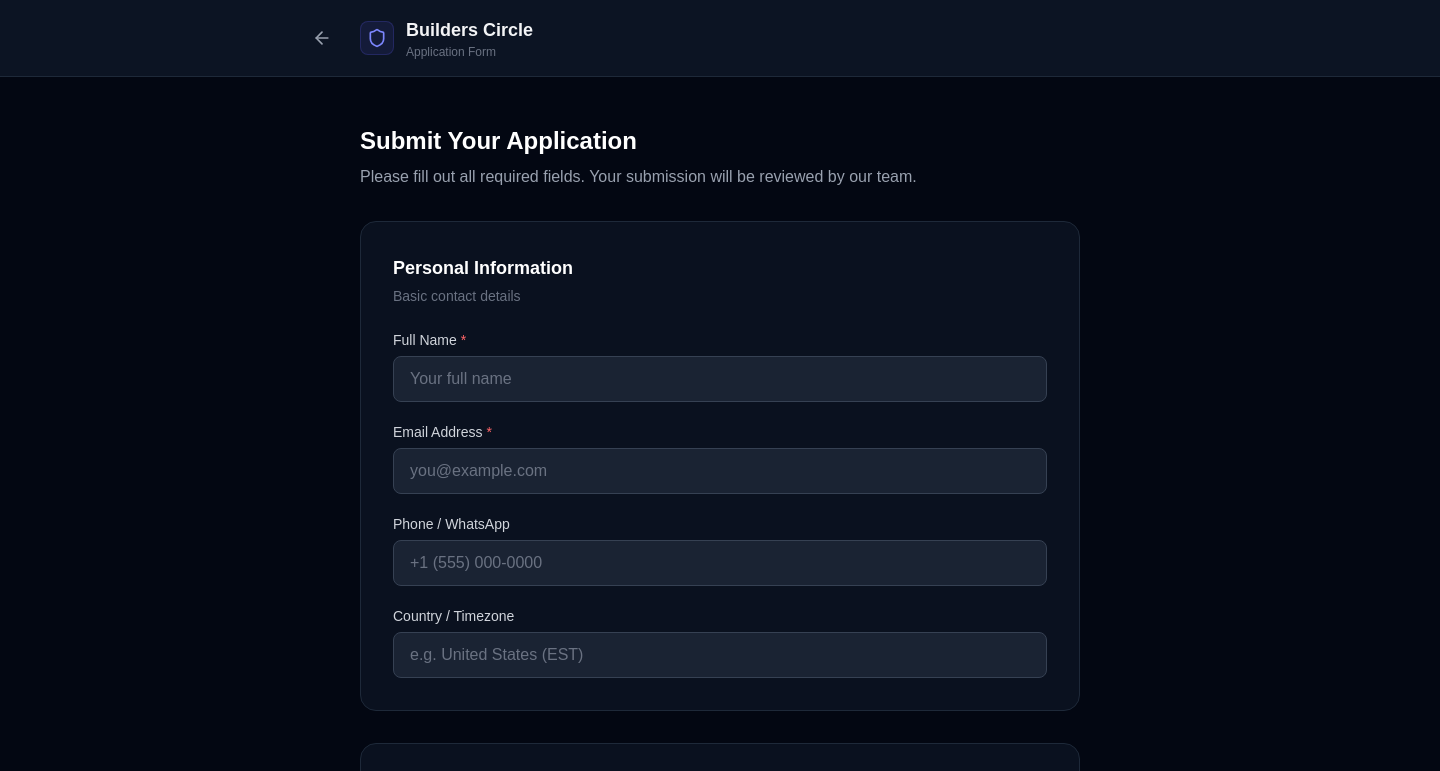
Test case: TriageApply Successful Submission [Group 5] › submits form data and shows success state
This screenshot has width=1440, height=771.
Type "Alice Smith" into the field with placeholder "Your full name". click: x=720, y=379
box: [393,356,1047,402]
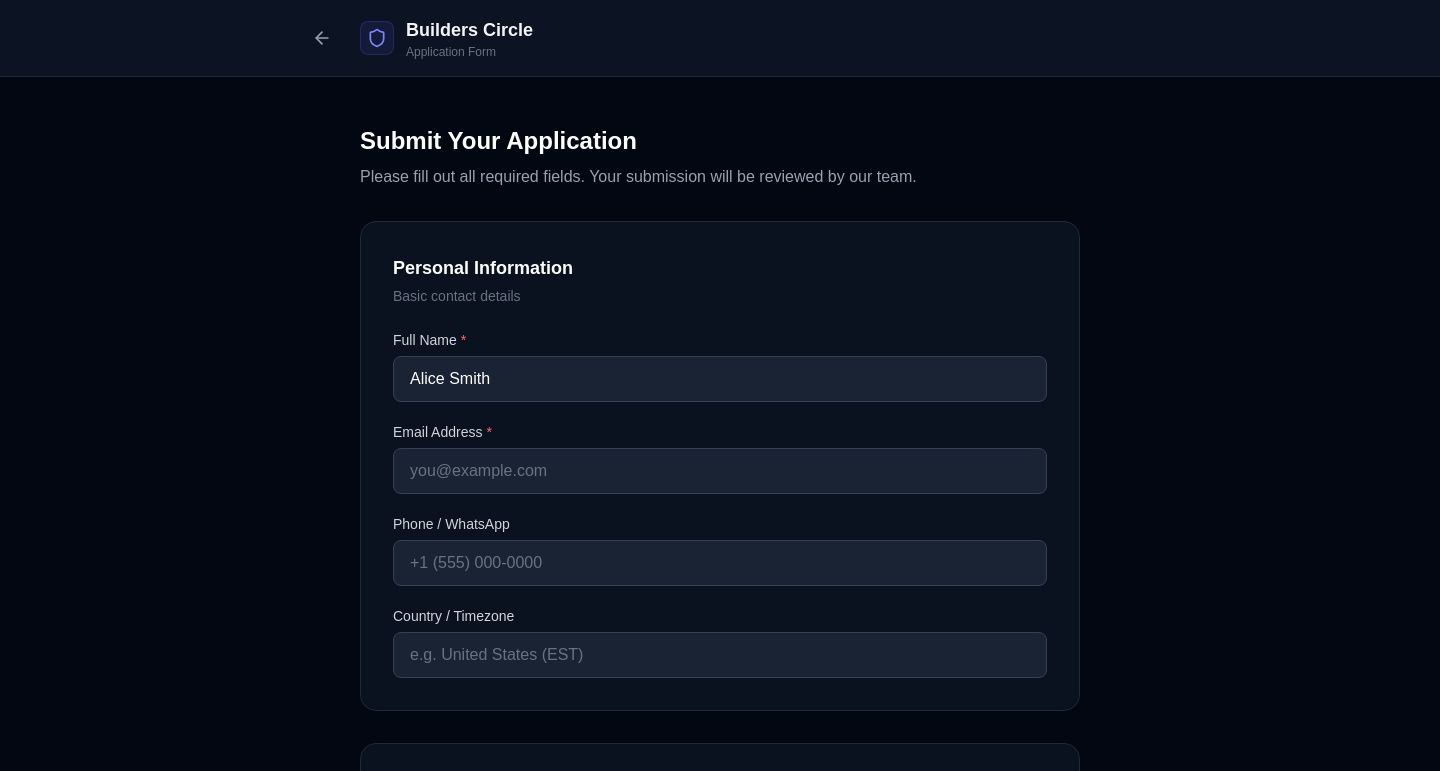
Type "alice@example.com" into the field with placeholder "you@example.com". click: x=720, y=471
box: [393,448,1047,494]
(page scrolled)
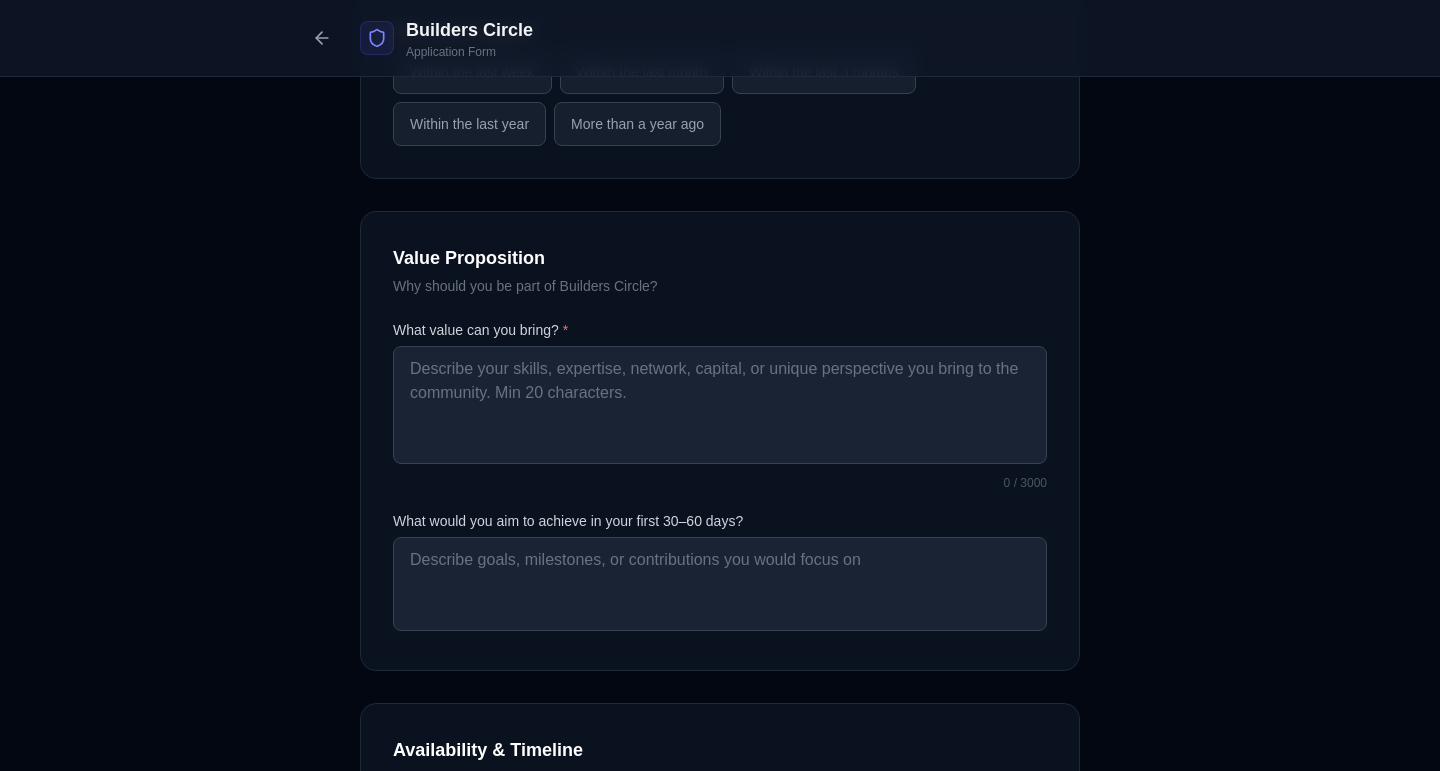
Replace the text in the text box with placeholder "Describe your skills" with "I am a full-stack developer with 10 years of experience building scalable web applications and distributed systems.". click: x=720, y=405
box: [393,346,1047,464]
(page scrolled)
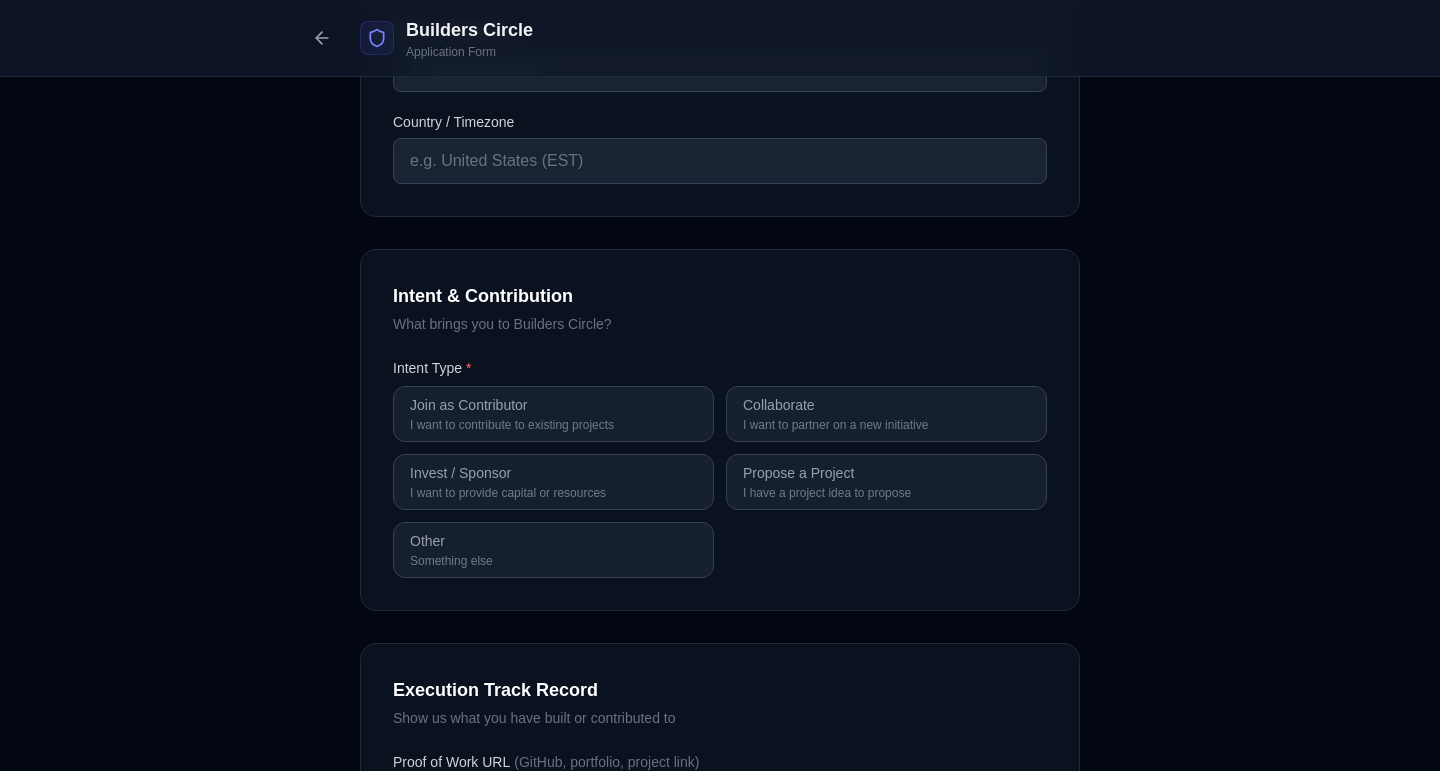
# Select intent type
Click the text "Join as Contributor". click: x=469, y=405
box: [410,397,528,413]
(page scrolled)
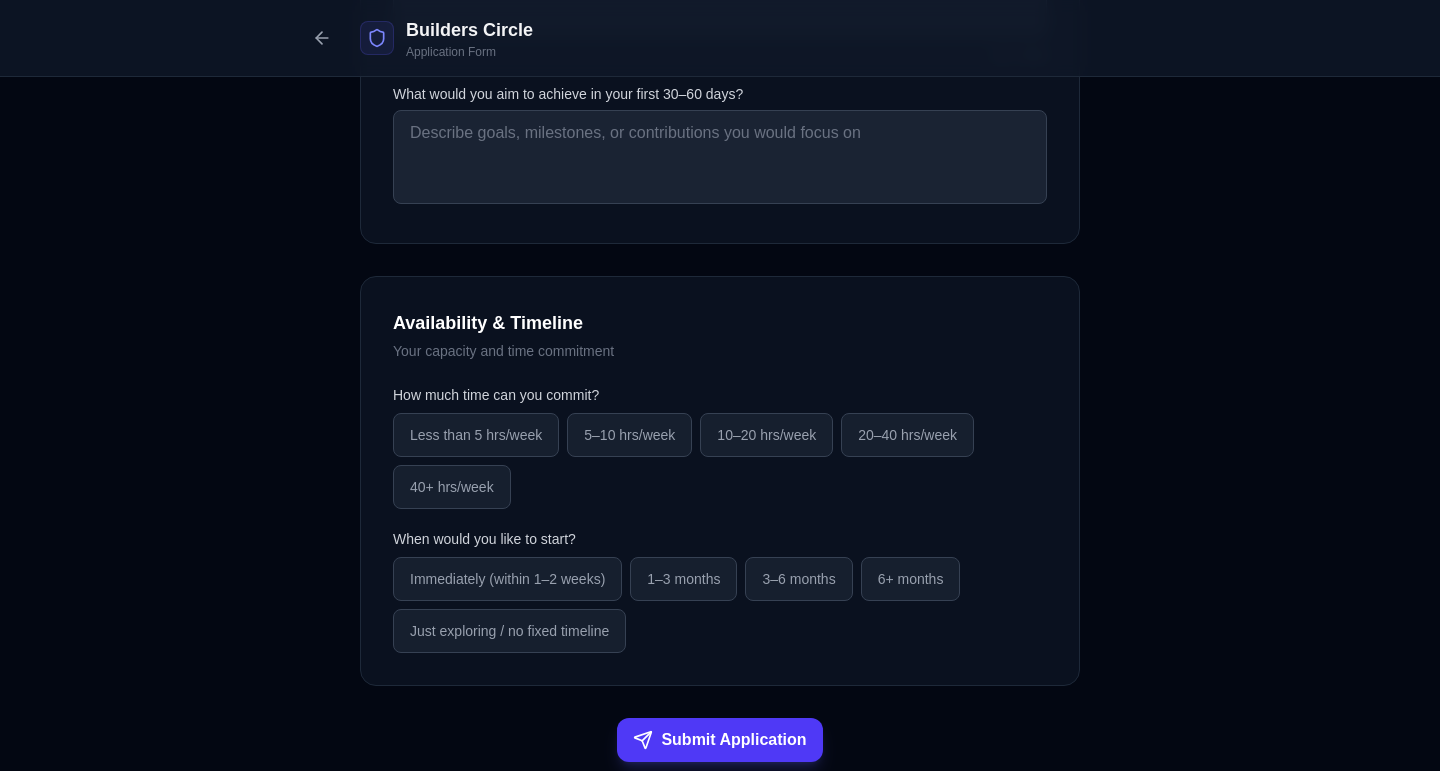
Click the button "Submit Application". click: x=720, y=740
box: [617,718,823,762]
(page scrolled)
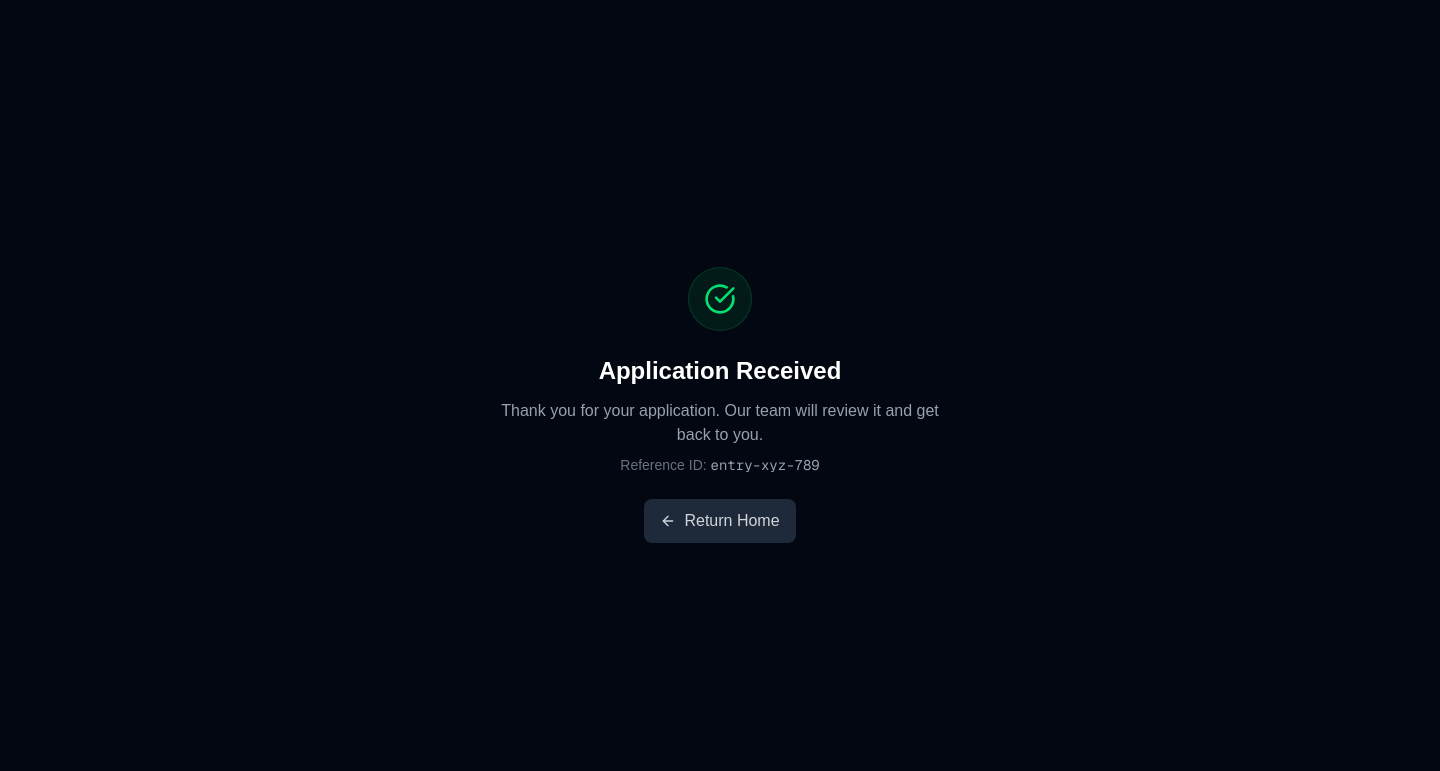
Now the heading "Application Received" is shown, box [599,357,841,384]
Now the text "entry-xyz-789" is shown, box [710,456,820,474]
Now the button "Return Home" is shown, box [644,499,796,543]
